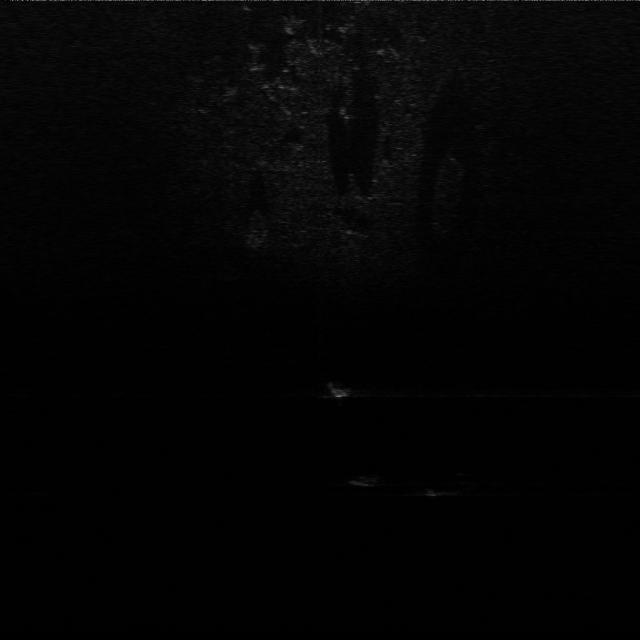cube: (342, 463, 391, 490)
square cage: (327, 374, 364, 401)
tyre: (426, 472, 476, 498)
